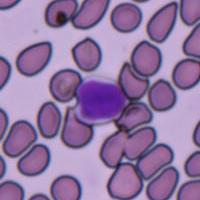L: (75, 76, 128, 124)
